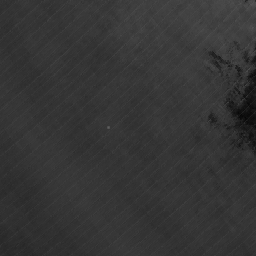Target: (105, 125, 111, 131)
